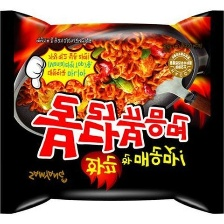snack: (0, 5, 224, 219)
